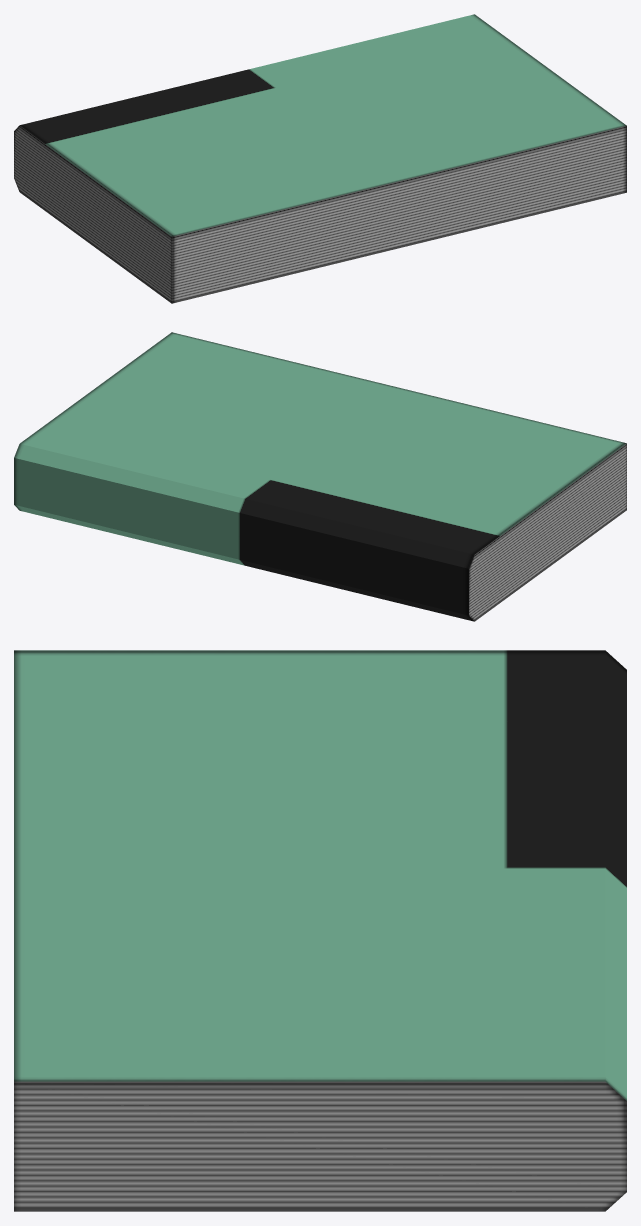
The model's file is book6.fbx.
3 renders of one model, top to bottom at view 1: azimuth 30°, elevation 25°; view 2: azimuth 150°, elevation 25°; view 3: azimuth 270°, elevation 25°, orthographic. The views are drawn at different scales.
Parts seen in each view (by area): view 1: polySurface1125; view 2: polySurface1125; view 3: polySurface1125.
Boxes of the visible parts, box(x1,y1,x2,y2) form: polySurface1125: box(14, 14, 626, 303); polySurface1125: box(14, 332, 626, 621); polySurface1125: box(14, 650, 626, 1211).
Size of the model in its own units: 0.4212 by 0.0592 by 0.253.
